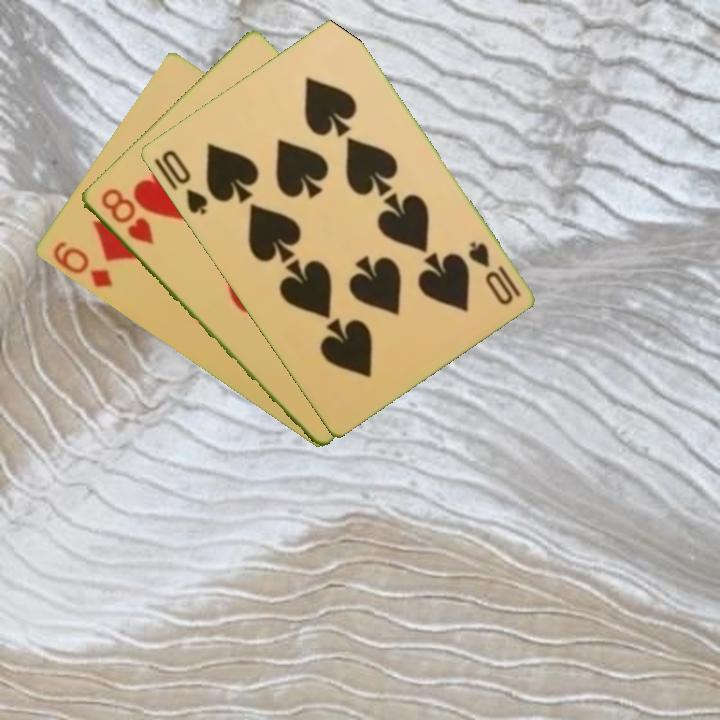10s: (464, 237, 523, 308), (157, 146, 210, 218)
6d: (48, 238, 115, 291)
8h: (97, 185, 157, 248)
